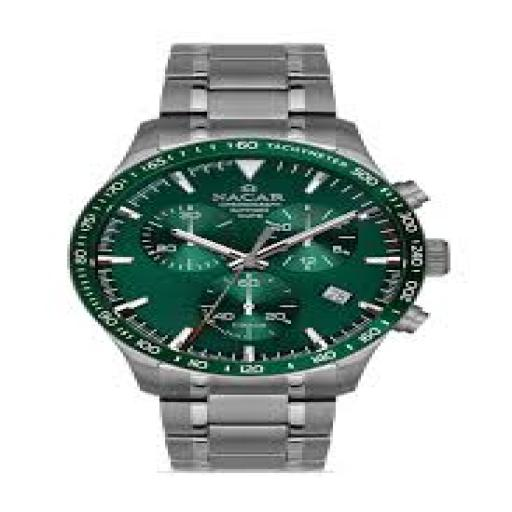KolSaati: (62, 33, 467, 477)
